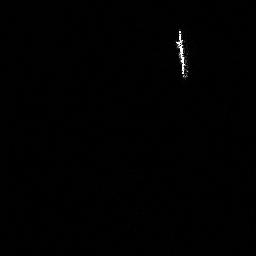ship: (173, 27, 192, 80)
